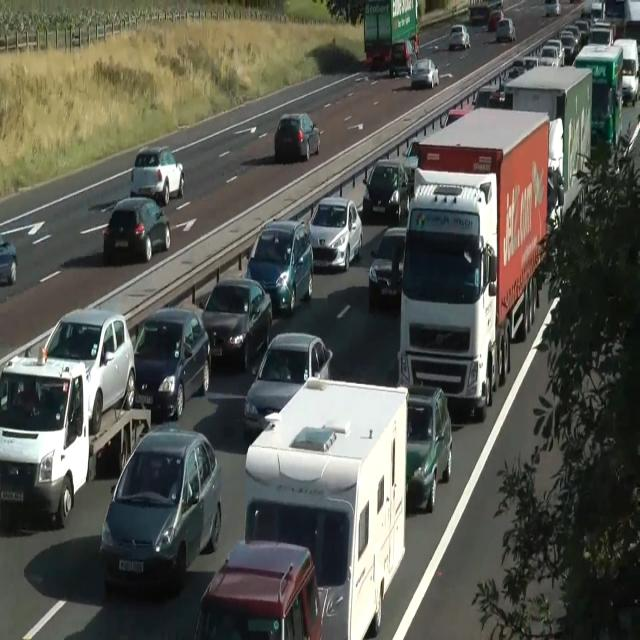bus: (194, 539, 322, 639), (40, 308, 136, 436), (243, 332, 333, 438), (201, 277, 273, 371), (406, 384, 452, 513), (102, 196, 170, 263), (307, 196, 363, 272), (130, 145, 184, 205), (368, 226, 407, 306), (274, 112, 320, 162), (488, 66, 526, 108), (388, 39, 416, 77), (410, 58, 439, 88), (0, 238, 17, 286), (444, 103, 474, 129), (402, 140, 420, 183), (538, 42, 564, 68), (448, 24, 470, 50), (473, 85, 497, 108), (587, 25, 613, 46), (496, 18, 516, 42), (513, 56, 539, 71), (488, 90, 506, 108), (488, 10, 503, 31), (544, 0, 560, 16)
jeep: (100, 424, 222, 591), (0, 348, 90, 528), (132, 306, 211, 420), (244, 218, 314, 316), (362, 157, 408, 220), (614, 36, 638, 105)
minibus: (396, 106, 550, 420), (243, 376, 409, 639), (488, 64, 592, 228), (572, 43, 624, 148), (362, 0, 419, 76), (468, 0, 502, 24)
